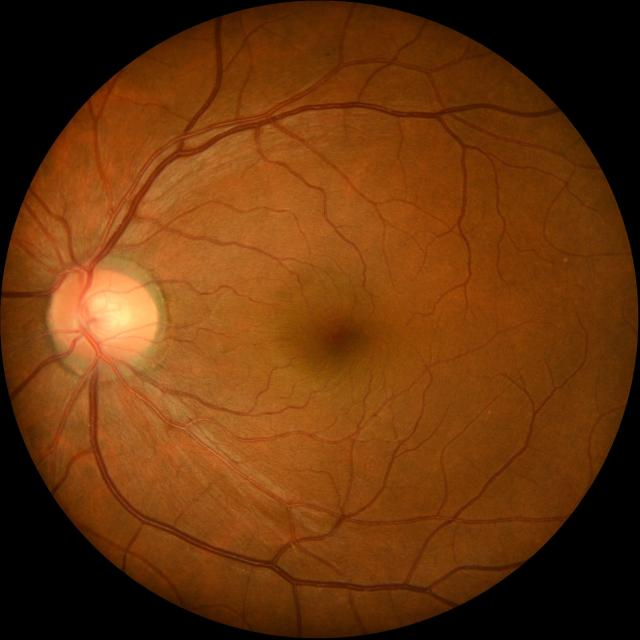OC: (79, 293, 133, 338)
OD: (49, 267, 154, 361)
